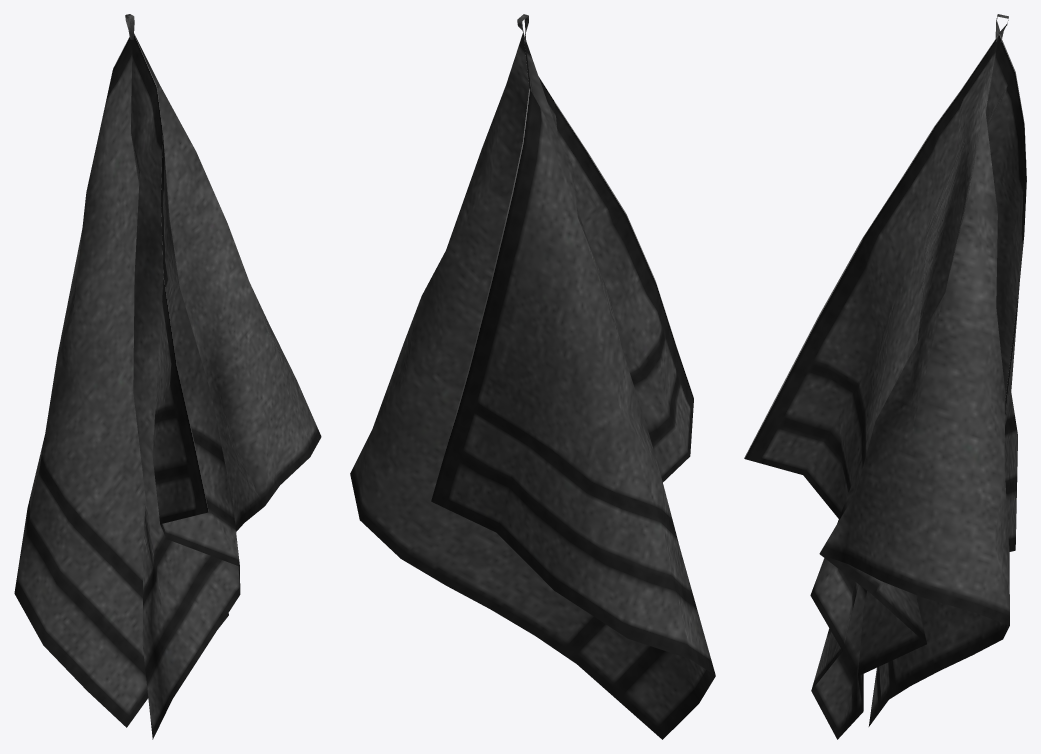
The model's file is Towel_2.fbx.
3 views of the same model, side by side, from view 1: azimuth 30°, elevation 25°; view 2: azimuth 150°, elevation 25°; view 3: azimuth 270°, elevation 25° (orthographic). The views are drawn at different scales.
Visible parts, largest first — view 1: Towel_2; view 2: Towel_2; view 3: Towel_2.
Boxes of the visible parts, x1,y1,x2,y2 form: Towel_2: (14,14,321,739); Towel_2: (350,14,715,739); Towel_2: (744,14,1026,739).
Size of the model in its own units: 0.3083 by 0.665 by 0.2267.
